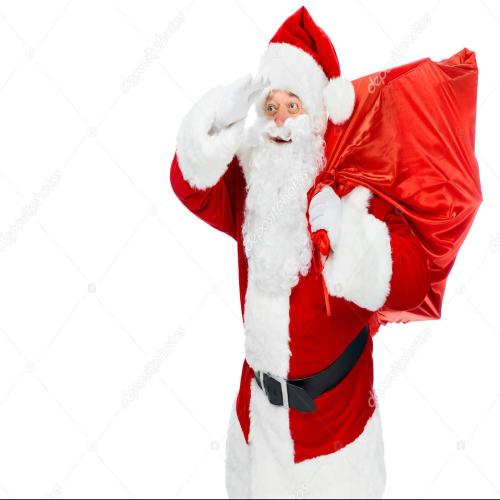Santa: (170, 6, 429, 496)
